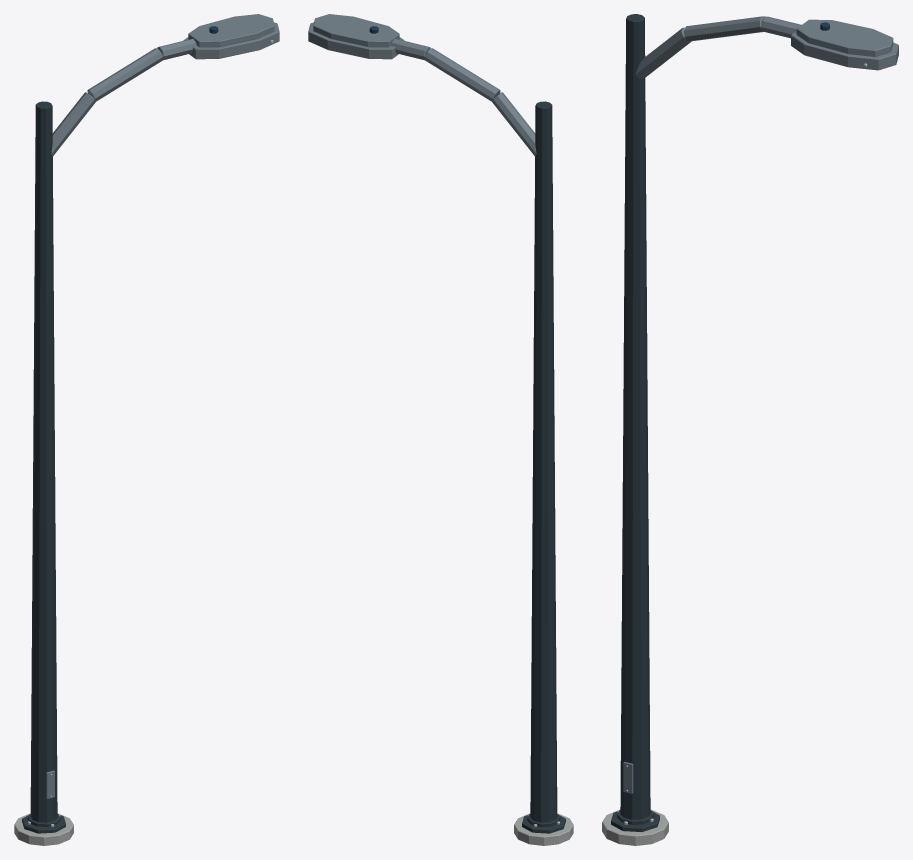
Rendered from b18_cobrahead_roadway_lamp.glb.
The picture shows the model from 3 angles, left to right: view 1: azimuth 30°, elevation 25°; view 2: azimuth 150°, elevation 25°; view 3: azimuth 330°, elevation 25°; orthographic projection. The views are drawn at different scales.
Parts seen in each view (by area): view 1: b18_cobrahead_roadway_lamp; view 2: b18_cobrahead_roadway_lamp; view 3: b18_cobrahead_roadway_lamp.
Boxes of the visible parts, x1,y1,x2,y2 form: b18_cobrahead_roadway_lamp: (14, 14, 279, 845); b18_cobrahead_roadway_lamp: (308, 14, 573, 845); b18_cobrahead_roadway_lamp: (602, 14, 898, 845).
Bounding box in the file's own units: 2.64 × 7.45 × 0.528.
